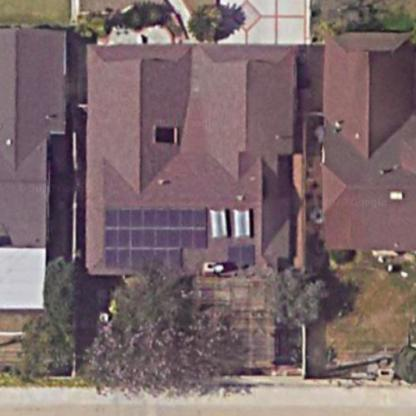solar_panel: (91, 195, 218, 271), (219, 233, 262, 272)
